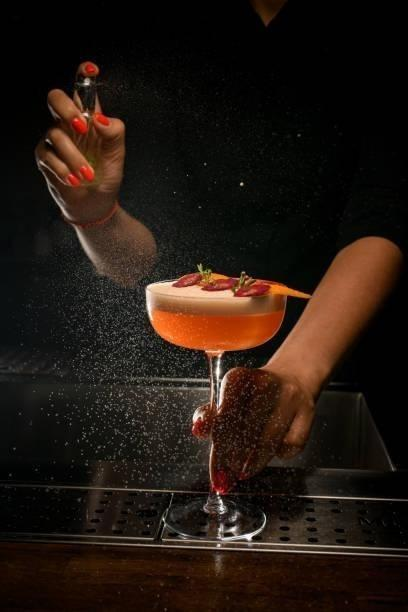glass-wine: (142, 272, 289, 542)
